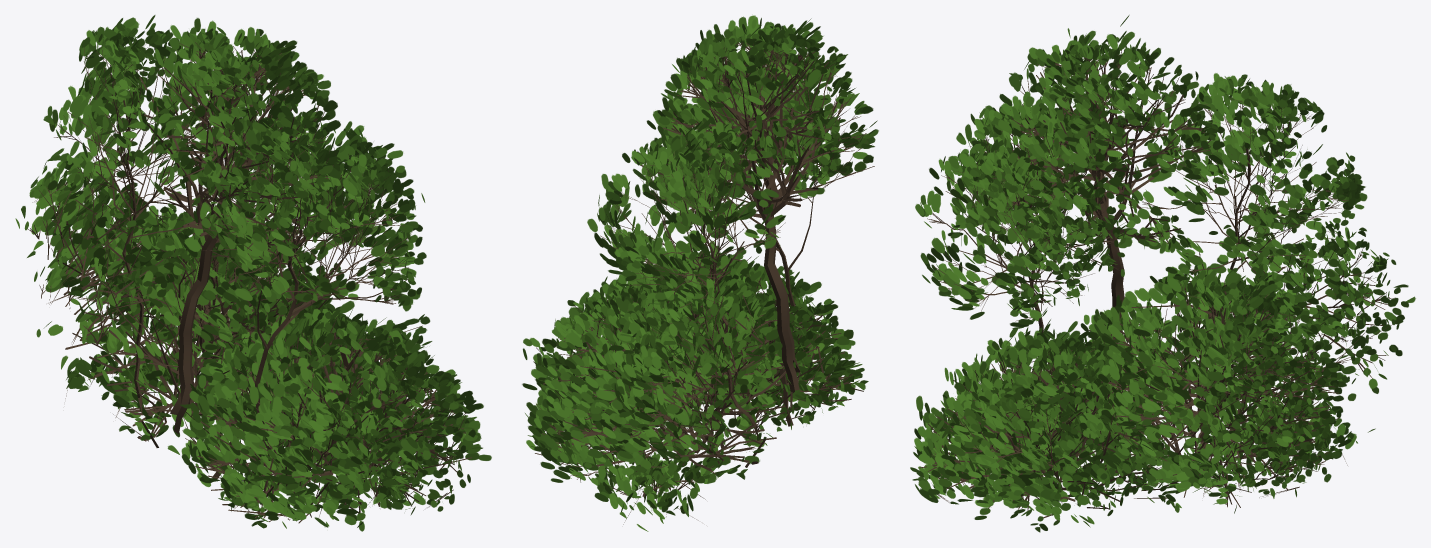
3 renders of one model, left to right at view 1: azimuth 30°, elevation 25°; view 2: azimuth 150°, elevation 25°; view 3: azimuth 270°, elevation 25°, orthographic. The views are drawn at different scales.
Parts seen in each view (by area): view 1: oak 01.001_trunk_Mat.001_0.324; view 2: oak 01.001_trunk_Mat.001_0.324; view 3: oak 01.001_trunk_Mat.001_0.324.
Boxes of the visible parts, x1,y1,x2,y2 form: oak 01.001_trunk_Mat.001_0.324: [15, 15, 491, 531]; oak 01.001_trunk_Mat.001_0.324: [522, 15, 878, 531]; oak 01.001_trunk_Mat.001_0.324: [910, 15, 1415, 532].
Bounding box in the file's own units: 3.22 × 5.07 × 5.41.
2 materials, 1 textured.
